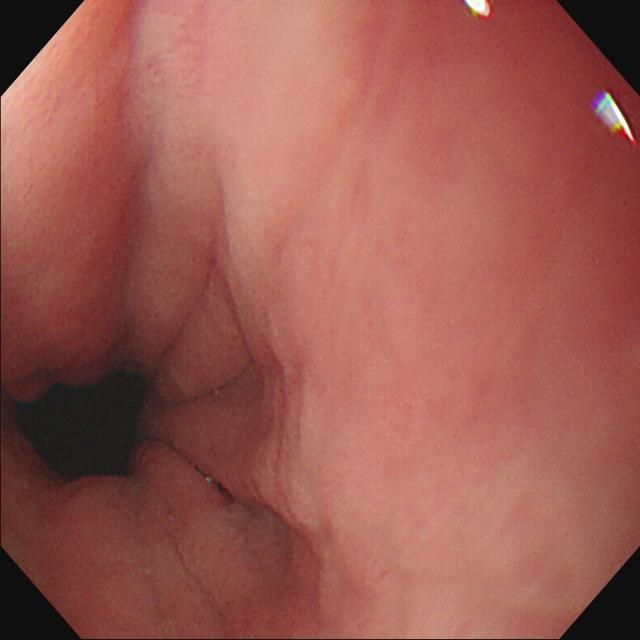E: (12, 374, 146, 478)
U: (593, 92, 637, 145), (463, 2, 493, 20)
